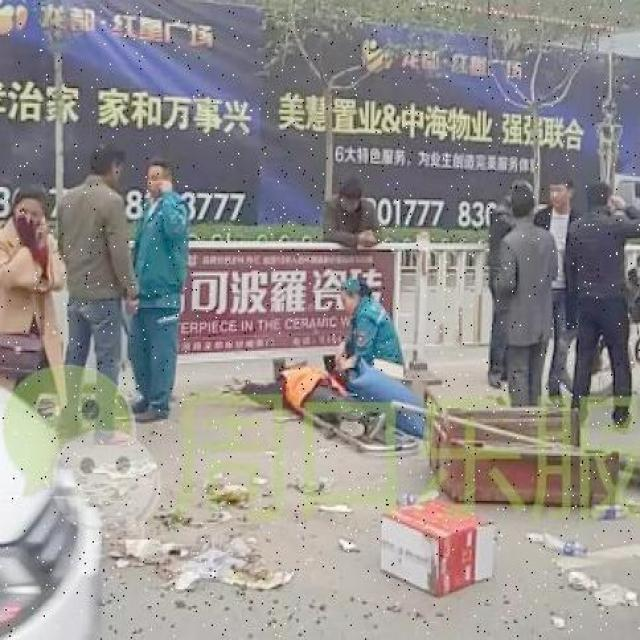fall: (257, 356, 374, 442)
